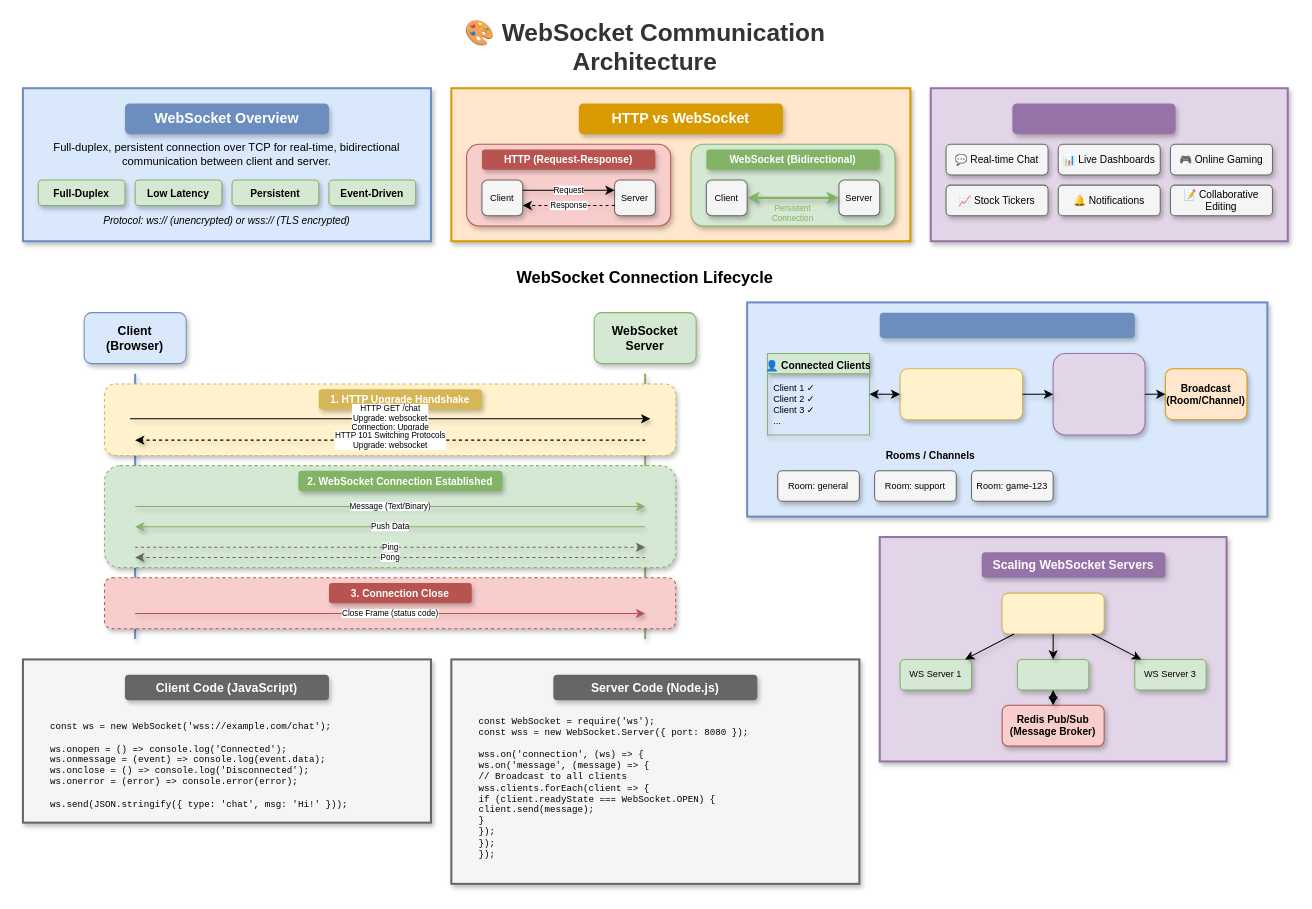
The diagram is 1312 pixels wide and 909 high, and some of its shapes have lost their labels. The shapes that lost their labels are listed below. From the top down, each one's centre as x and y in pixels, then its label:
At (x=1094, y=120): "WebSocket Use Cases".
At (x=1007, y=326): "WebSocket Server Architecture".
At (x=962, y=395): "WebSocket Server (Connection Manager)".
At (x=1099, y=395): "Event Handlers onConnect onMessage onClose onError".
At (x=1053, y=614): "Load Balancer (Sticky Sessions)".
At (x=1053, y=675): "WS Server 2".
